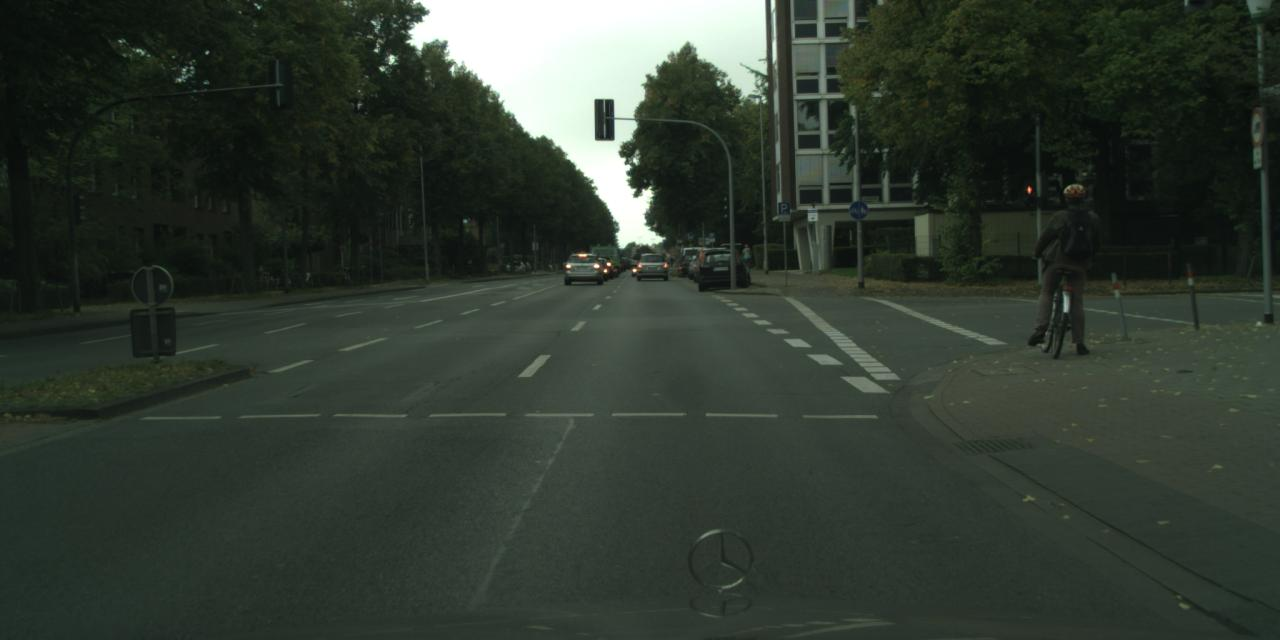ped: (1034, 183, 1101, 348)
